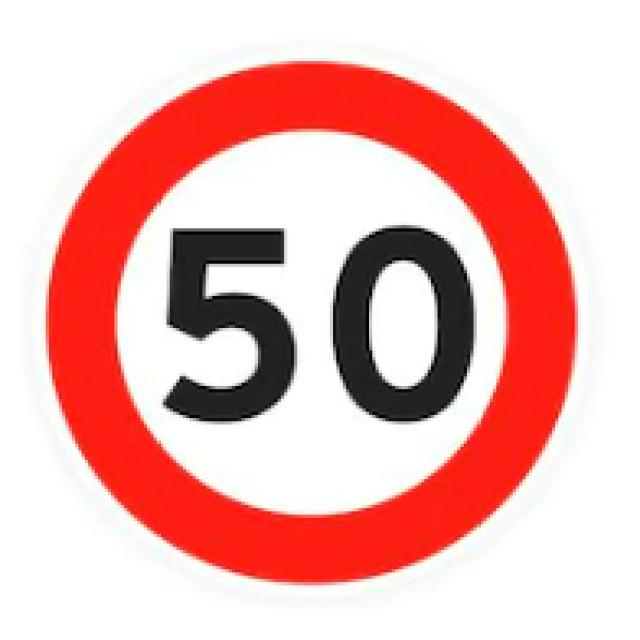Speed Limit -50-: (160, 217, 480, 437)
